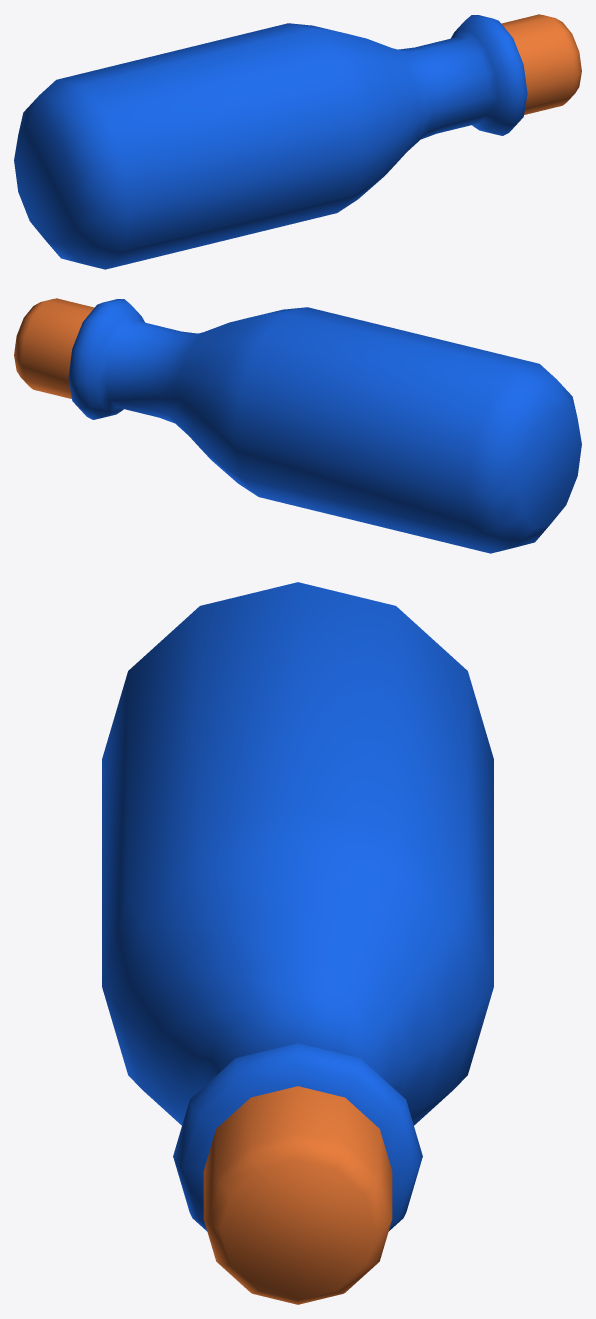
Rendered from Water.fbx.
3 views of the same model, one above another, from view 1: azimuth 30°, elevation 25°; view 2: azimuth 150°, elevation 25°; view 3: azimuth 270°, elevation 25° (orthographic). The views are drawn at different scales.
Parts seen in each view (by area): view 1: Circle.002; view 2: Circle.002; view 3: Circle.002.
Part boxes in pixels (x1,y1,x2,y2): Circle.002: [14, 14, 581, 269]; Circle.002: [14, 298, 581, 553]; Circle.002: [102, 582, 493, 1304].
Bounding box in the file's own units: 87.27 × 28.66 × 28.66.
